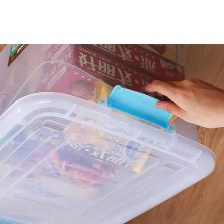plastic_box: (0, 45, 220, 224)
